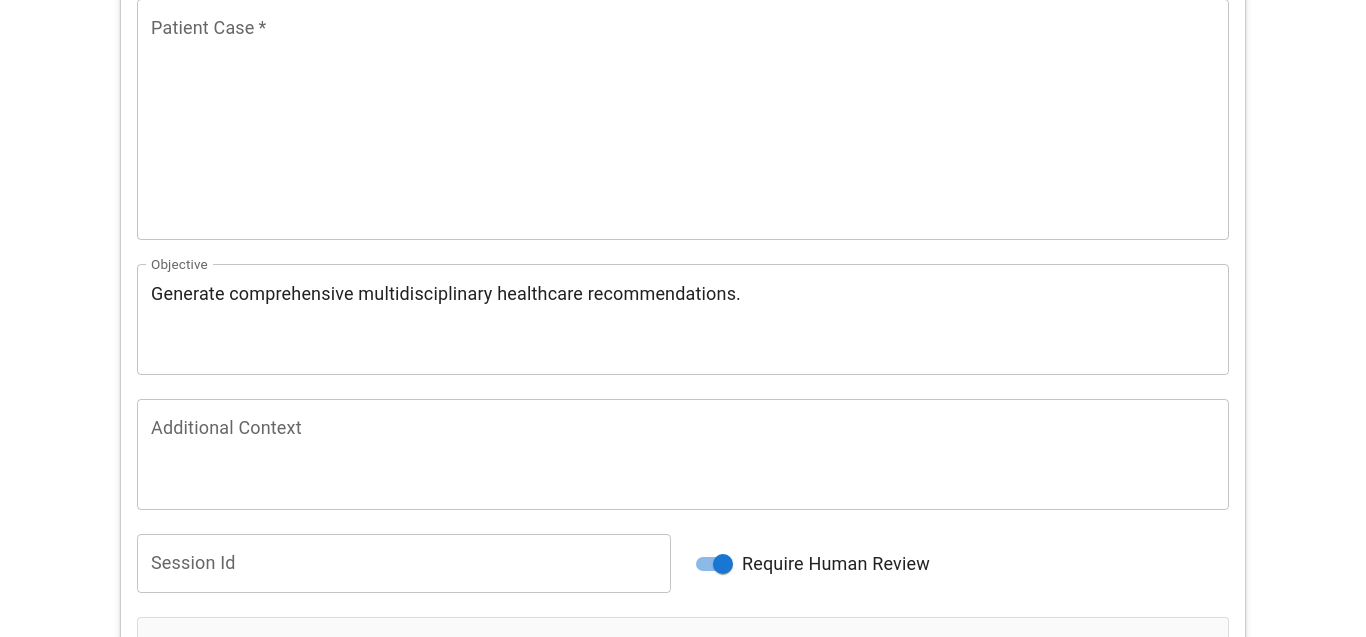
Test: PlatformAnalysisForm › resets form
Type "Patient" into the text box labelled "Patient Case *".
click(683, 120); type("Patient")  # box [151,16,1215,224]
(page scrolled)
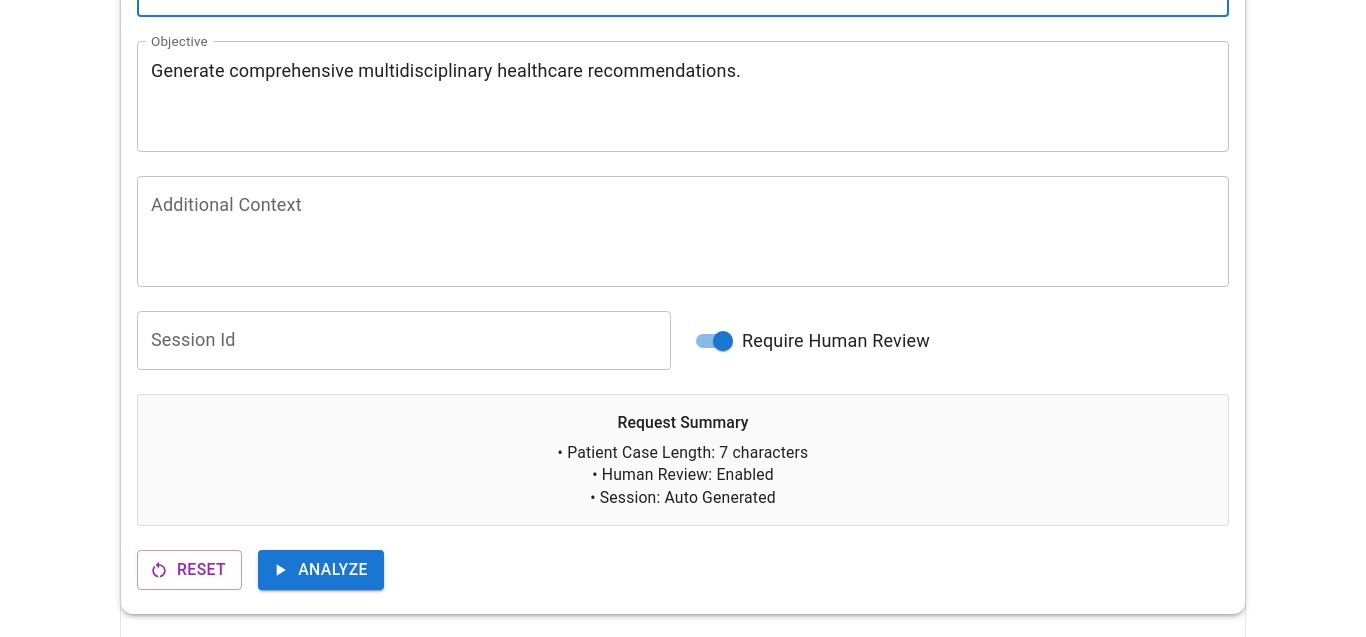
Click the button "Reset".
click(190, 570)  # box [137,550,242,590]
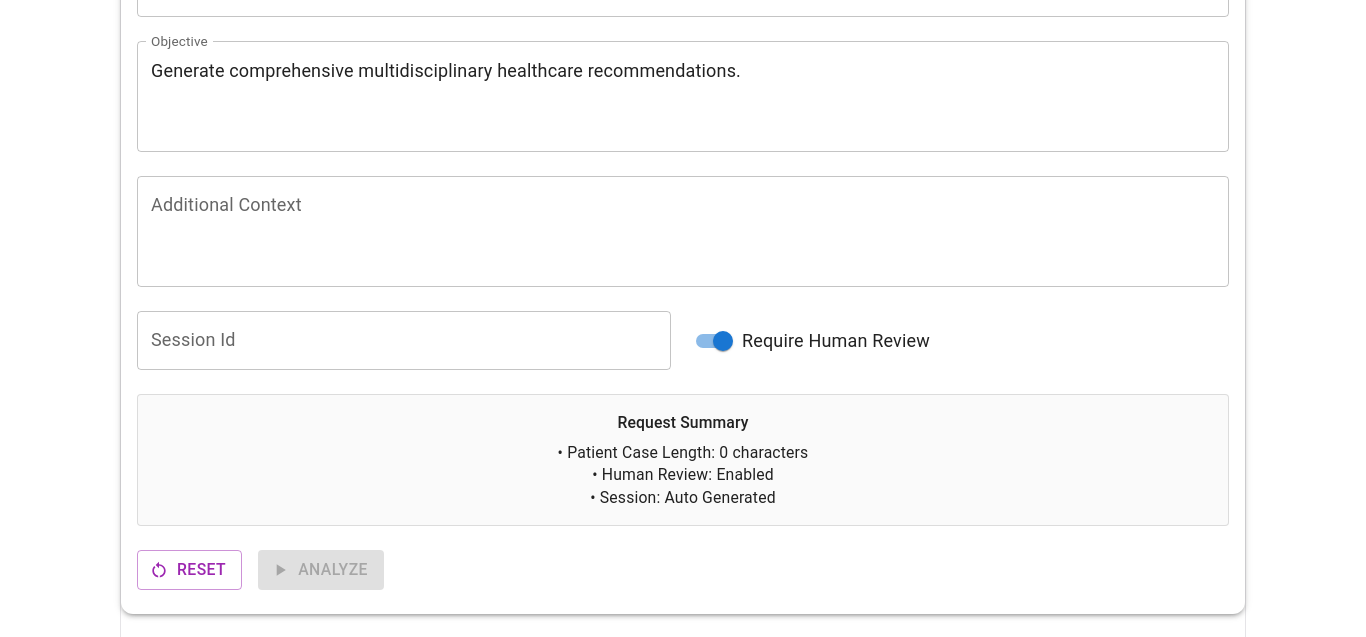
Now the text "• Patient Case Length: 0 characters" is shown, box [558,442,808,462]
